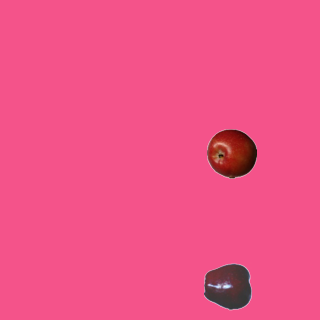Apple Braeburn: (206, 128, 256, 178)
Apple Red Delicious: (203, 261, 253, 311)
